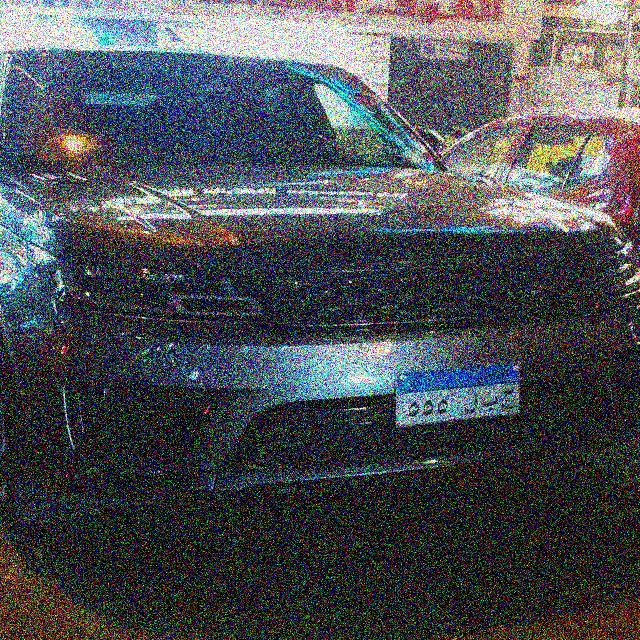License Plate: (394, 362, 527, 430)
